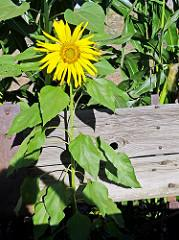sunflower: (39, 18, 101, 86)
